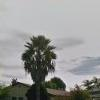Tree: (12, 28, 59, 87)
